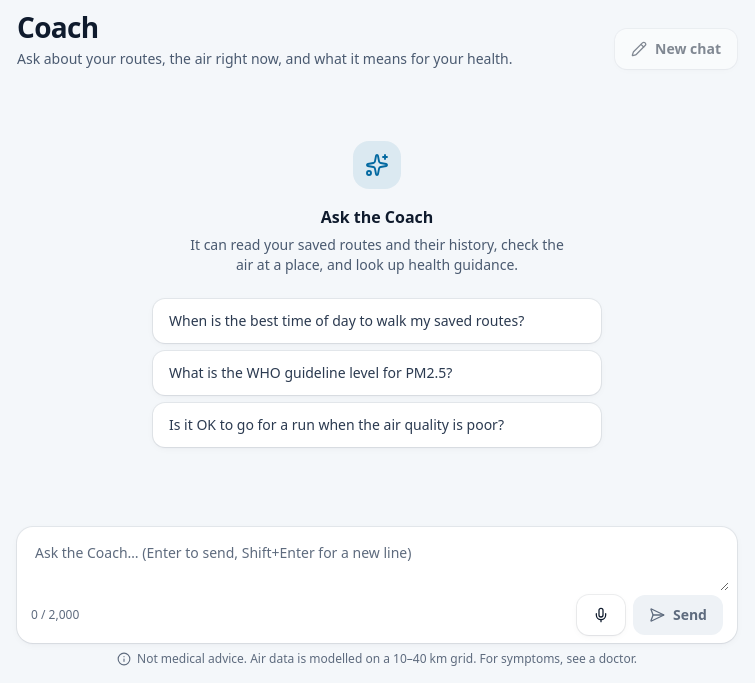
Test: Coach voice input › never sends by itself: a final result only fills the box
Click the button named "Start voice input". click: coordinates (601, 615)
box: [577,595,625,635]
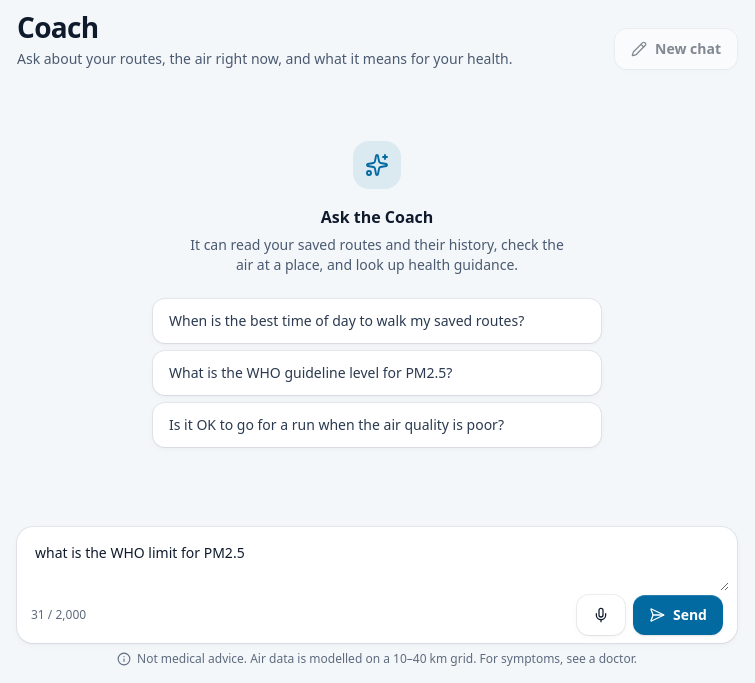
Expected: the text box holds "what is the WHO limit for PM2.5", [25,535,729,591]
